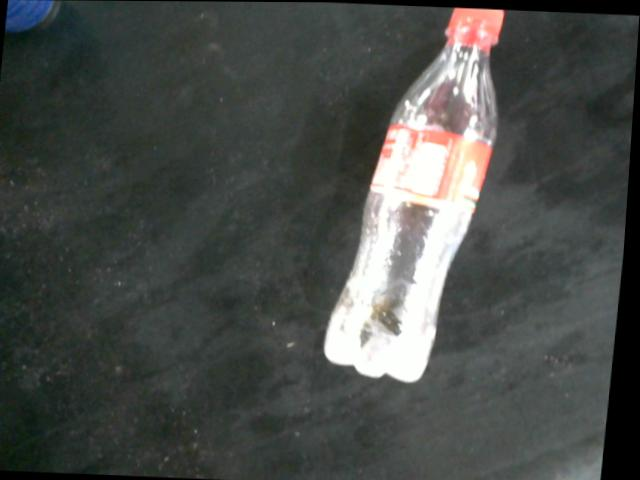bottle: (328, 7, 507, 383)
